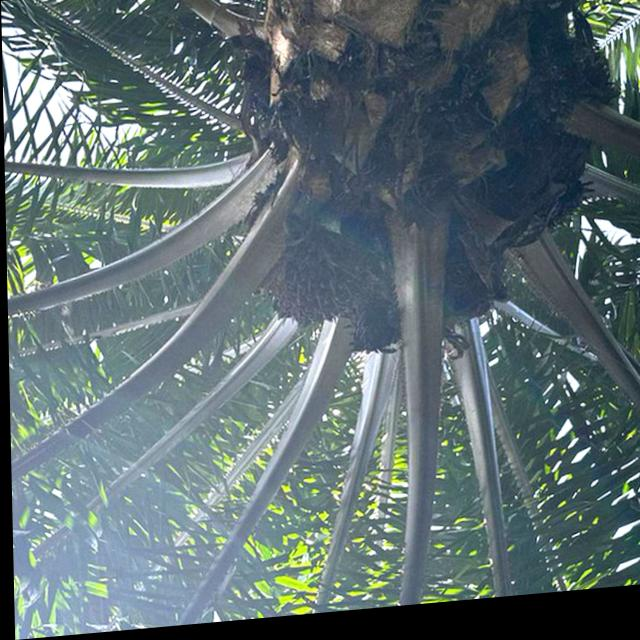ripe: (254, 235, 355, 340)
